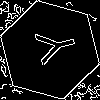Y: (25, 25, 79, 68)
